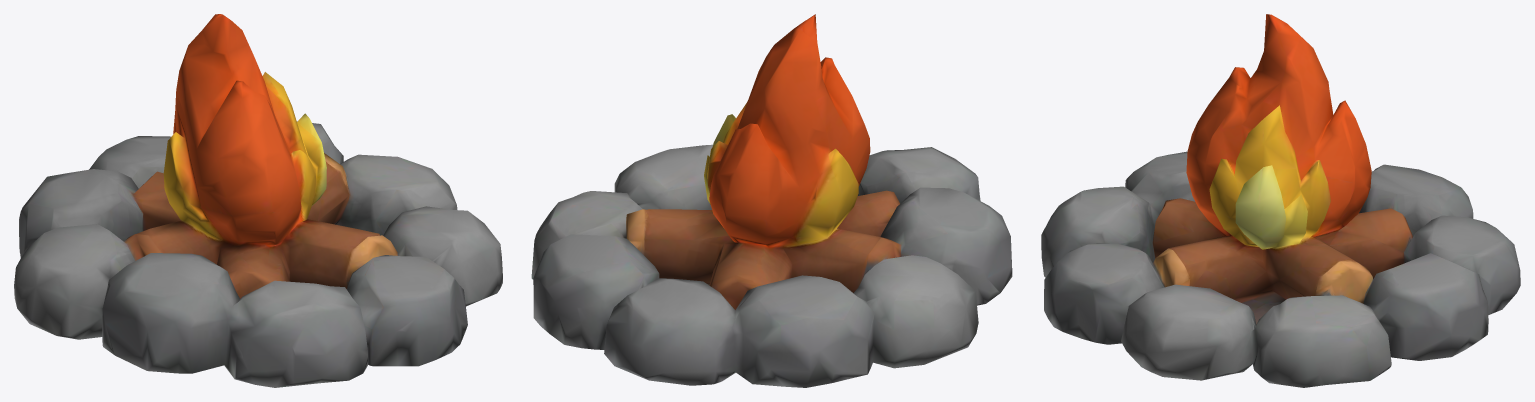
File: campfire.glb
3 views of the same model, side by side, from view 1: azimuth 30°, elevation 25°; view 2: azimuth 150°, elevation 25°; view 3: azimuth 270°, elevation 25° (orthographic). The views are drawn at different scales.
Visible parts, largest first — view 1: tripo_node_1d5565ca-07ac-4c95-8b89-318c3e4cab5e; view 2: tripo_node_1d5565ca-07ac-4c95-8b89-318c3e4cab5e; view 3: tripo_node_1d5565ca-07ac-4c95-8b89-318c3e4cab5e.
Part boxes in pixels (x1,y1,x2,y2): tripo_node_1d5565ca-07ac-4c95-8b89-318c3e4cab5e: (14, 14, 502, 387); tripo_node_1d5565ca-07ac-4c95-8b89-318c3e4cab5e: (531, 14, 1012, 387); tripo_node_1d5565ca-07ac-4c95-8b89-318c3e4cab5e: (1041, 14, 1520, 387).
Size of the model in its own units: 0.9535 by 0.6095 by 1.
1 material, 1 textured.
